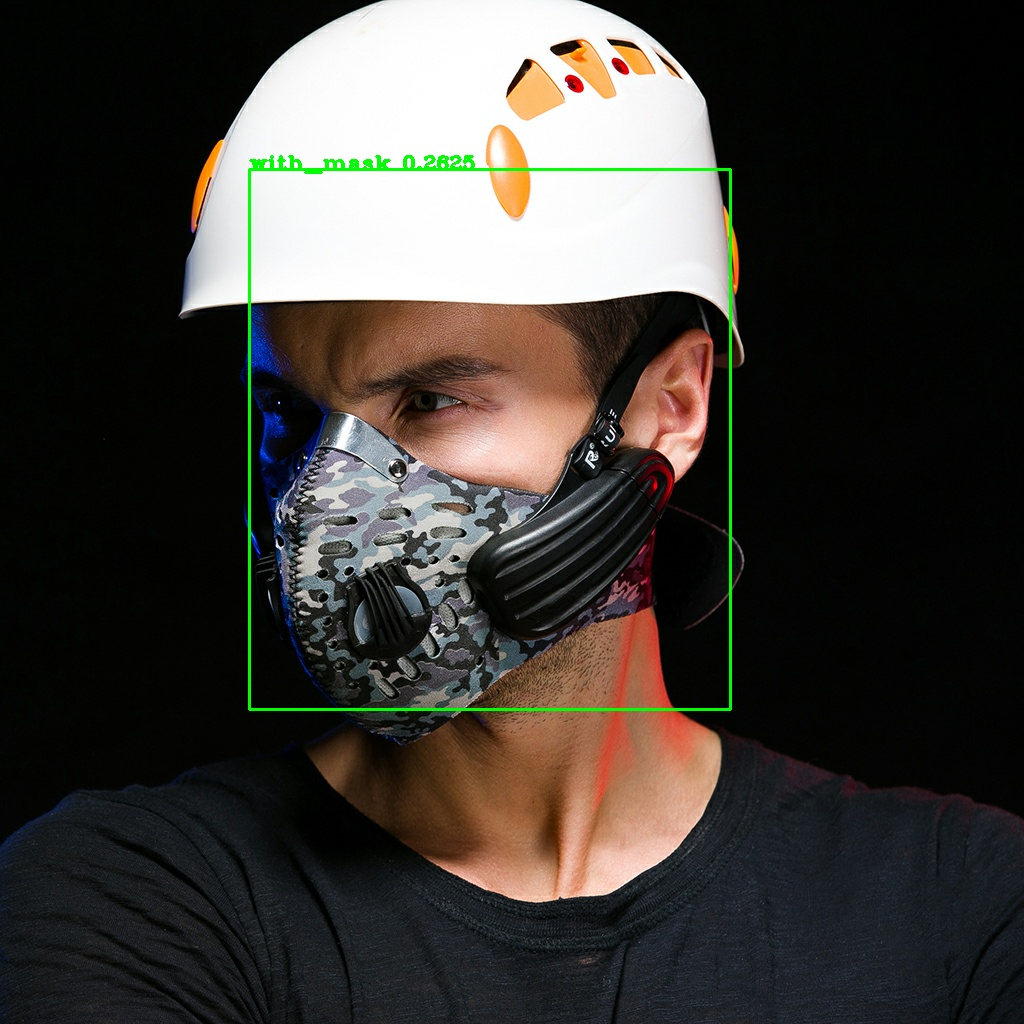with_mask: (190, 263, 750, 765)
